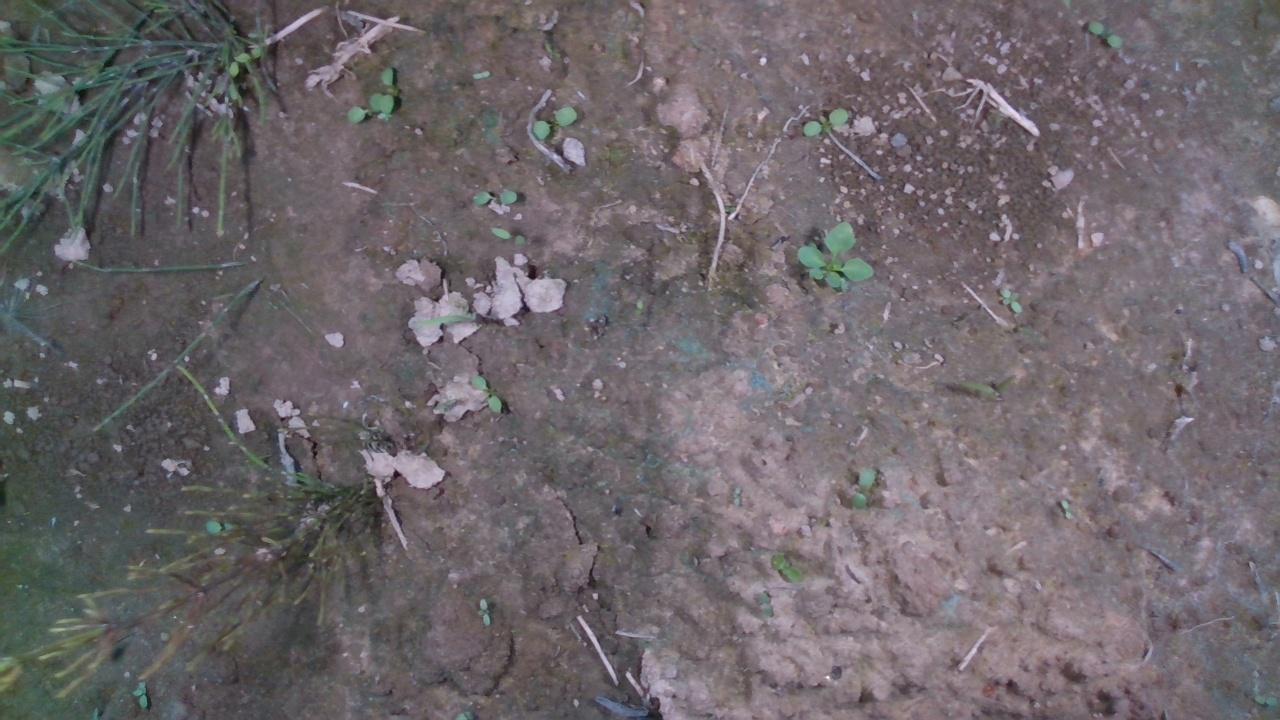weed: (794, 218, 874, 288), (529, 104, 577, 140), (802, 106, 848, 136), (469, 373, 501, 412), (1086, 19, 1124, 48), (850, 467, 876, 508), (471, 188, 517, 203), (998, 286, 1022, 313), (476, 597, 489, 625), (1060, 497, 1072, 520)
